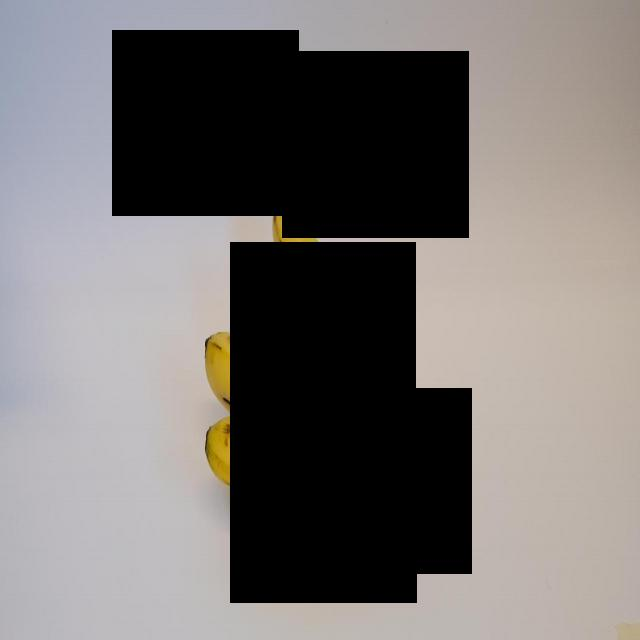banana: (248, 443, 391, 574), (266, 198, 388, 342), (224, 252, 373, 367), (195, 332, 364, 423), (195, 416, 365, 498)
